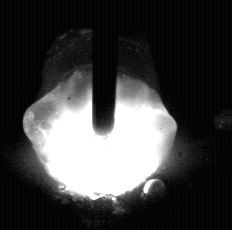arame: (93, 0, 117, 136)
poca: (21, 0, 177, 230)
